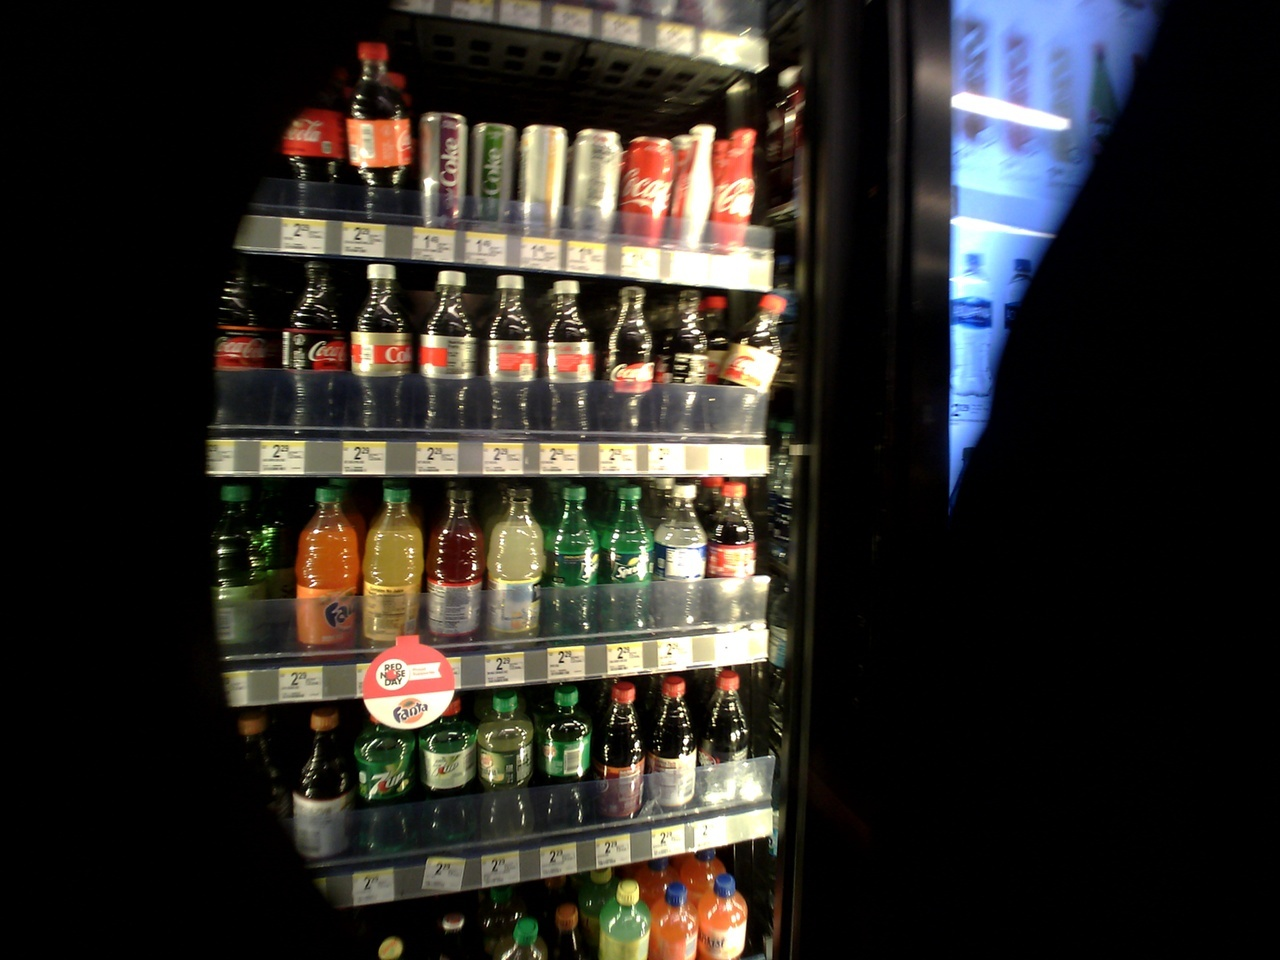shelf: (203, 12, 772, 290), (197, 257, 790, 470), (191, 658, 768, 864), (177, 479, 779, 662)
